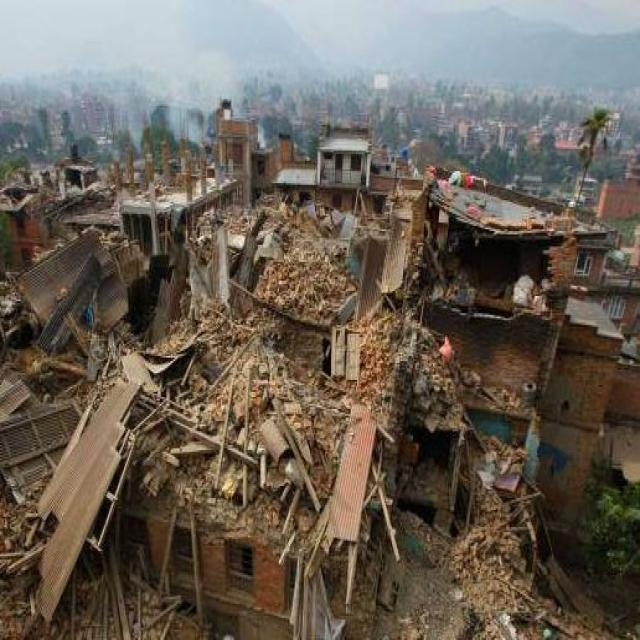collapsed_building: (174, 183, 416, 601)
